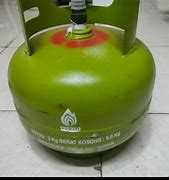gas_ijo: (6, 1, 155, 160)
